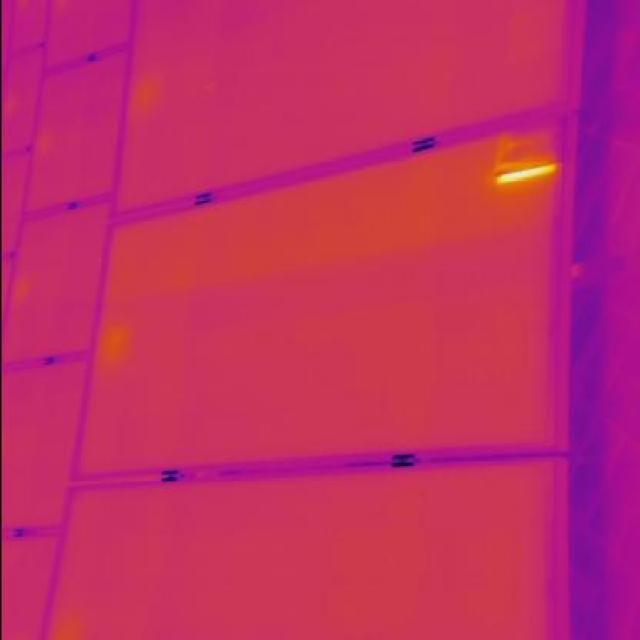hotspot: (488, 128, 560, 184)
